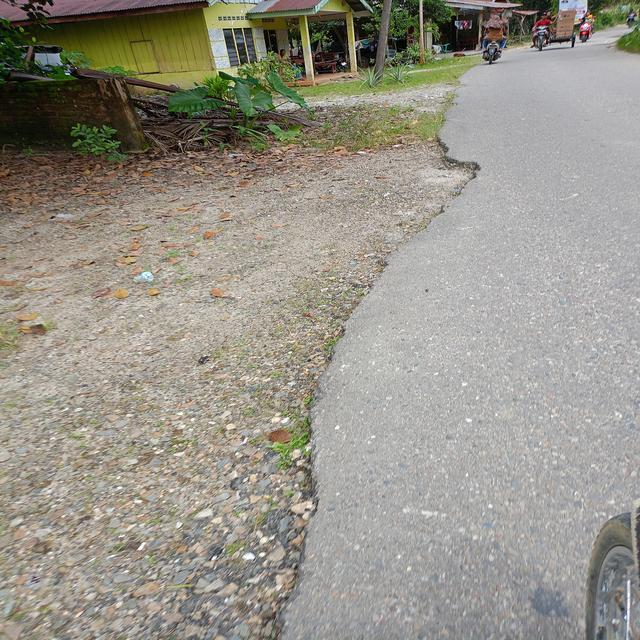Pinggir: (241, 127, 486, 640)
